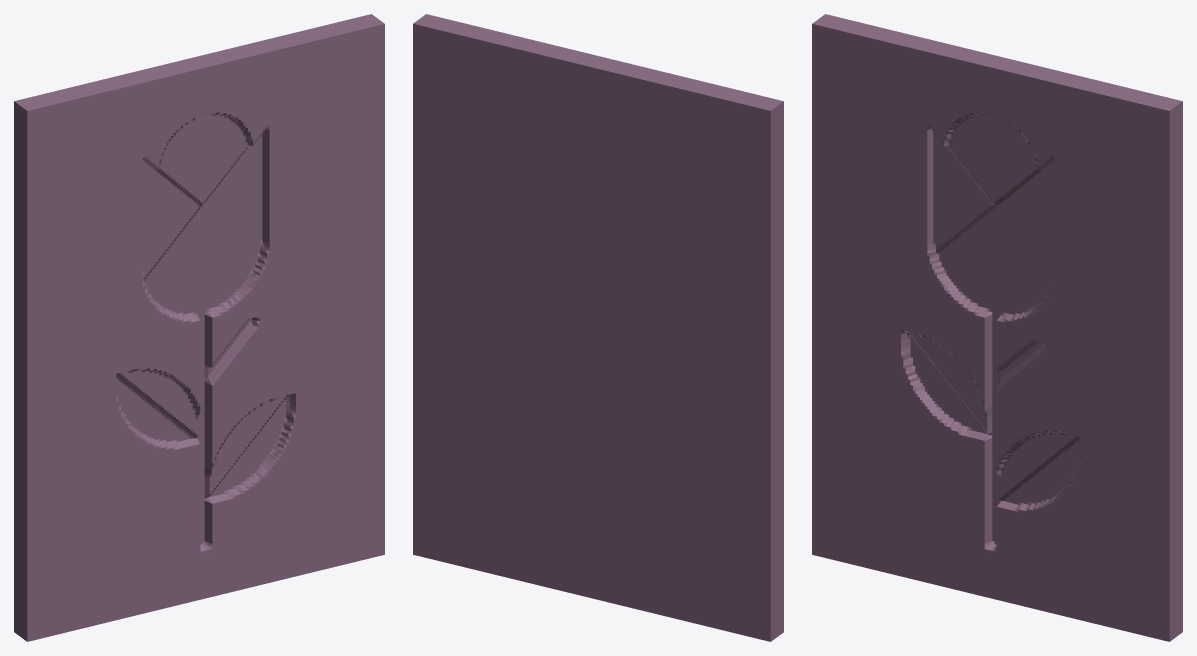
Rendered from tulip.glb.
3 renders of one model, left to right at view 1: azimuth 30°, elevation 25°; view 2: azimuth 150°, elevation 25°; view 3: azimuth 330°, elevation 25°, orthographic.
Visible parts, largest first — view 1: Plane.028; view 2: Plane.028; view 3: Plane.028.
Part boxes in pixels (left/top/right/bottom): Plane.028: left=14, top=14, right=384, bottom=641; Plane.028: left=413, top=14, right=783, bottom=641; Plane.028: left=812, top=14, right=1182, bottom=641.
Size of the model in its own units: 4.1 by 5.82 by 0.265.
